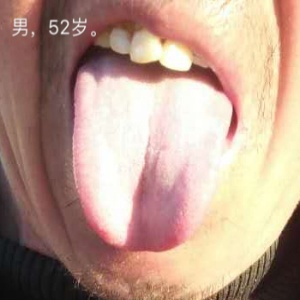st: (76, 73, 229, 250)
